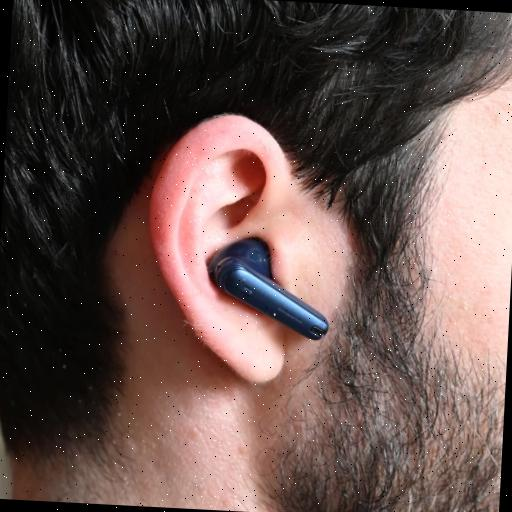earphone: (184, 210, 338, 363)
